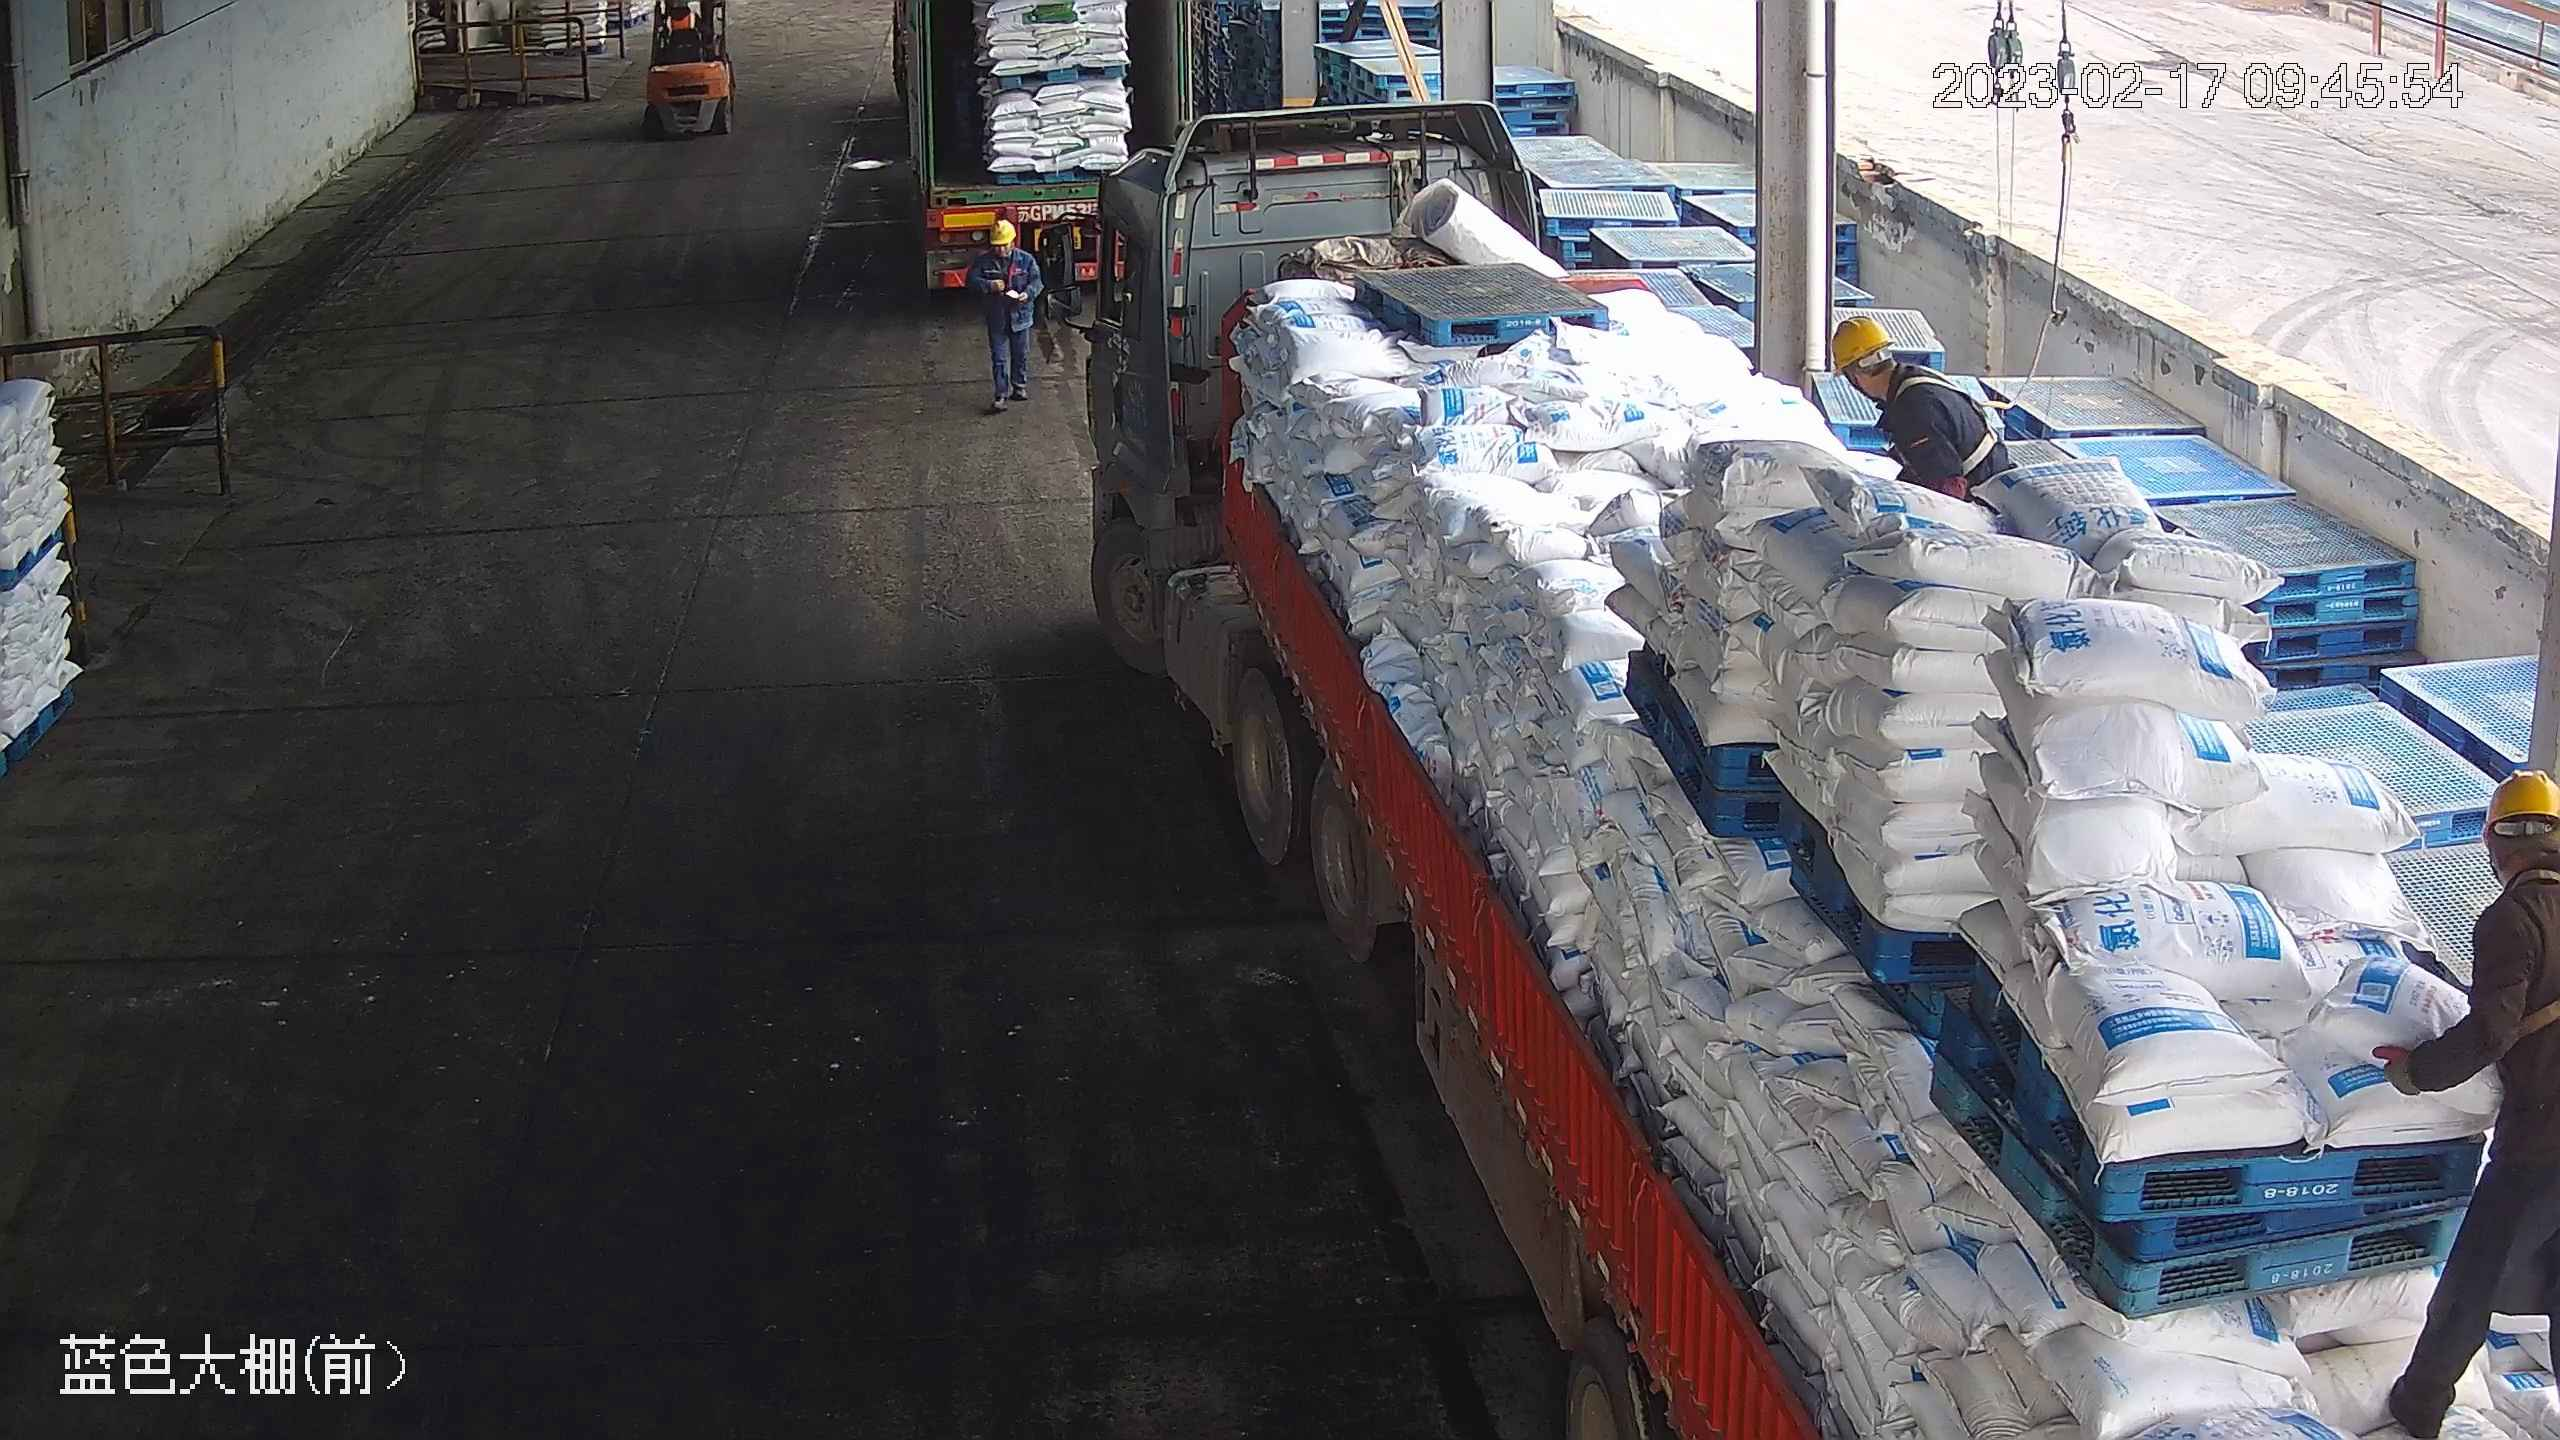belt: (1895, 365, 2010, 477), (2508, 870, 2560, 1039)
head: (2448, 767, 2559, 958), (1825, 314, 1967, 435), (977, 218, 1030, 283)
helmet: (2476, 766, 2560, 842), (1826, 314, 1895, 377), (986, 217, 1018, 242)
people: (2369, 767, 2558, 1440), (1832, 318, 2019, 521), (971, 219, 1036, 415)
truck: (1062, 96, 2560, 1440), (881, 1, 1212, 328)
